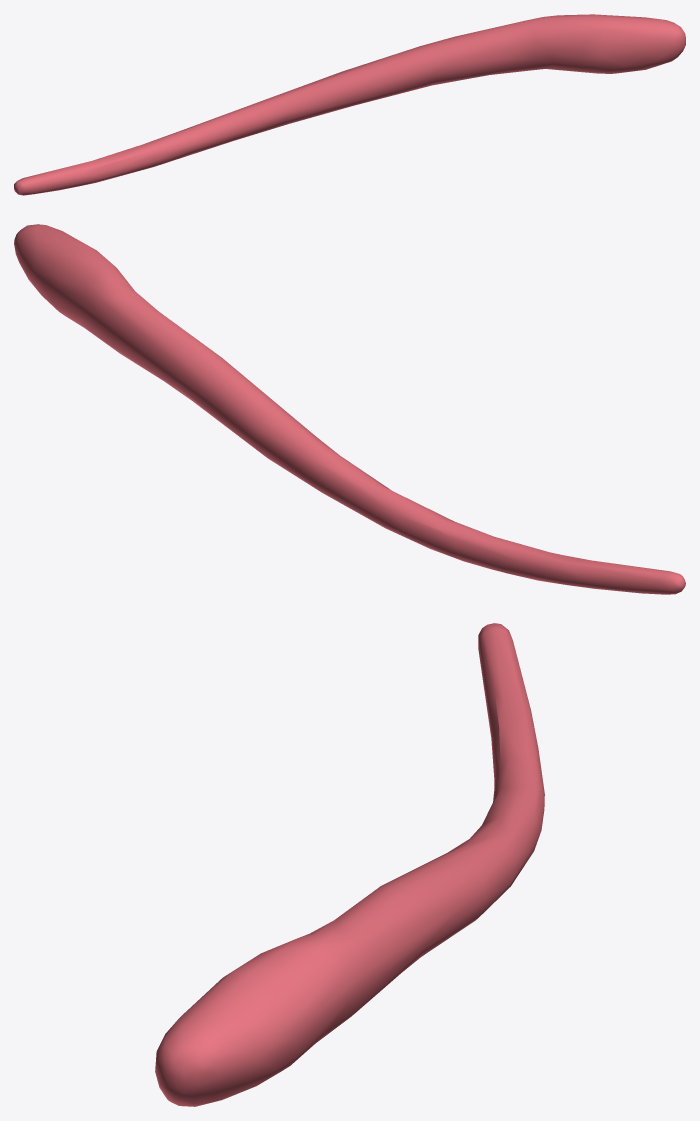
File: fma31528_fj6119.glb
The picture shows the model from 3 angles, top to bottom: view 1: azimuth 30°, elevation 25°; view 2: azimuth 150°, elevation 25°; view 3: azimuth 270°, elevation 25°; orthographic projection. The views are drawn at different scales.
Parts seen in each view (by area): view 1: FMA31528_FJ6119; view 2: FMA31528_FJ6119; view 3: FMA31528_FJ6119.
Boxes of the visible parts, x1=… form: FMA31528_FJ6119: x1=14, y1=14, x2=685, y2=195; FMA31528_FJ6119: x1=14, y1=224, x2=685, y2=594; FMA31528_FJ6119: x1=155, y1=623, x2=544, y2=1106.
Size of the model in its own units: 0.0905 by 0.0152 by 0.0258.
